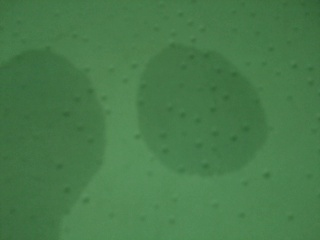Water_detected: (0, 76, 109, 240), (148, 57, 242, 159)
